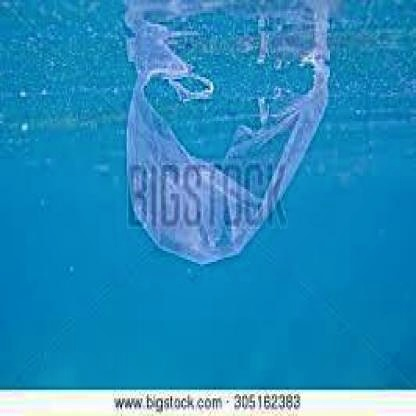pbag: (122, 60, 327, 275)
